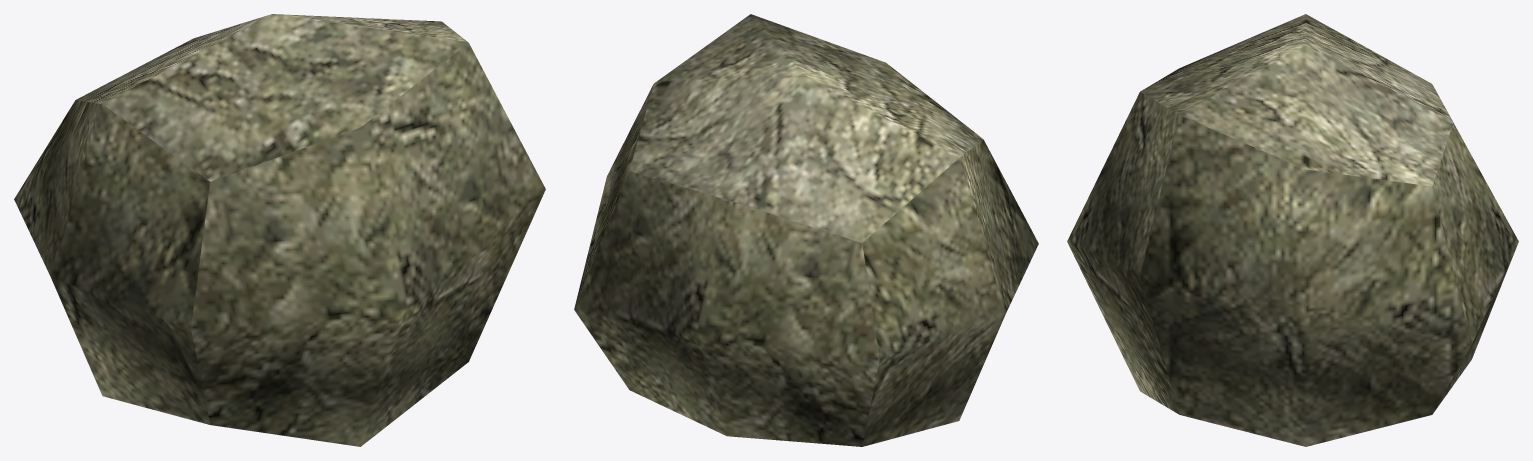
File: stst102.dae
3 renders of one model, left to right at view 1: azimuth 30°, elevation 25°; view 2: azimuth 150°, elevation 25°; view 3: azimuth 270°, elevation 25°, orthographic. The views are drawn at different scales.
Parts seen in each view (by area): view 1: stone; view 2: stone; view 3: stone.
Boxes of the visible parts, <box> form: stone: <box>14,14,545,446</box>; stone: <box>574,14,1038,446</box>; stone: <box>1067,14,1518,446</box>.
Size of the model in its own units: 9.09 by 8.55 by 7.27.
1 material, 1 textured.
